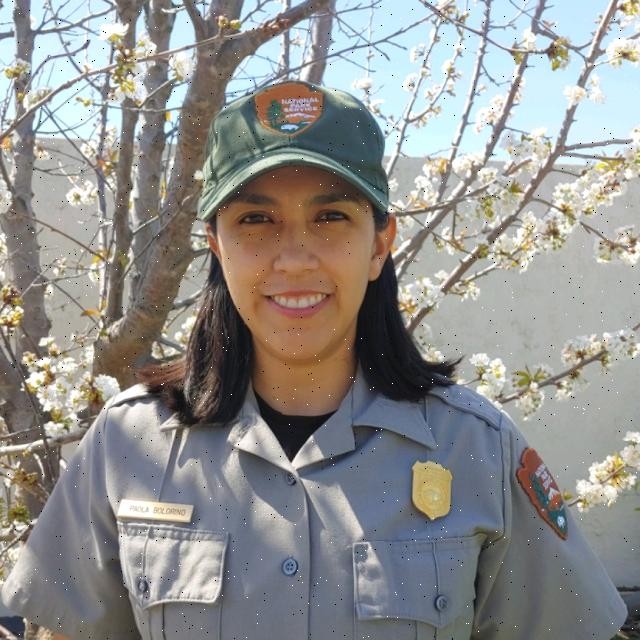police: (8, 67, 637, 640)
